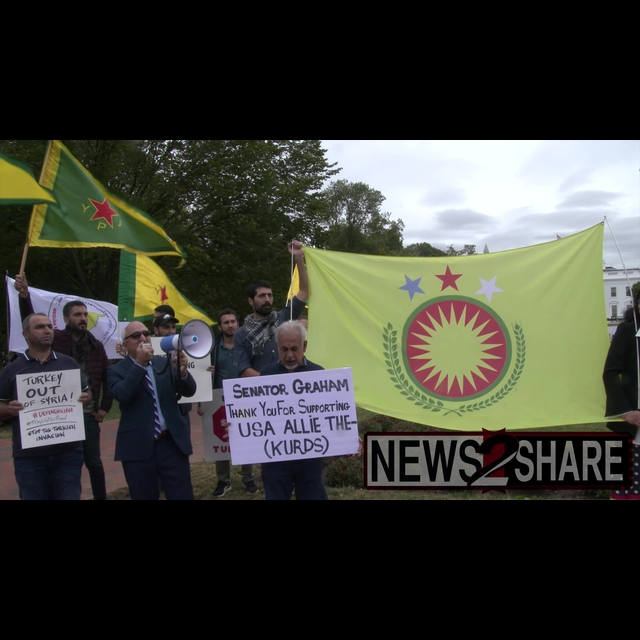YPJ: (75, 195, 126, 236)
